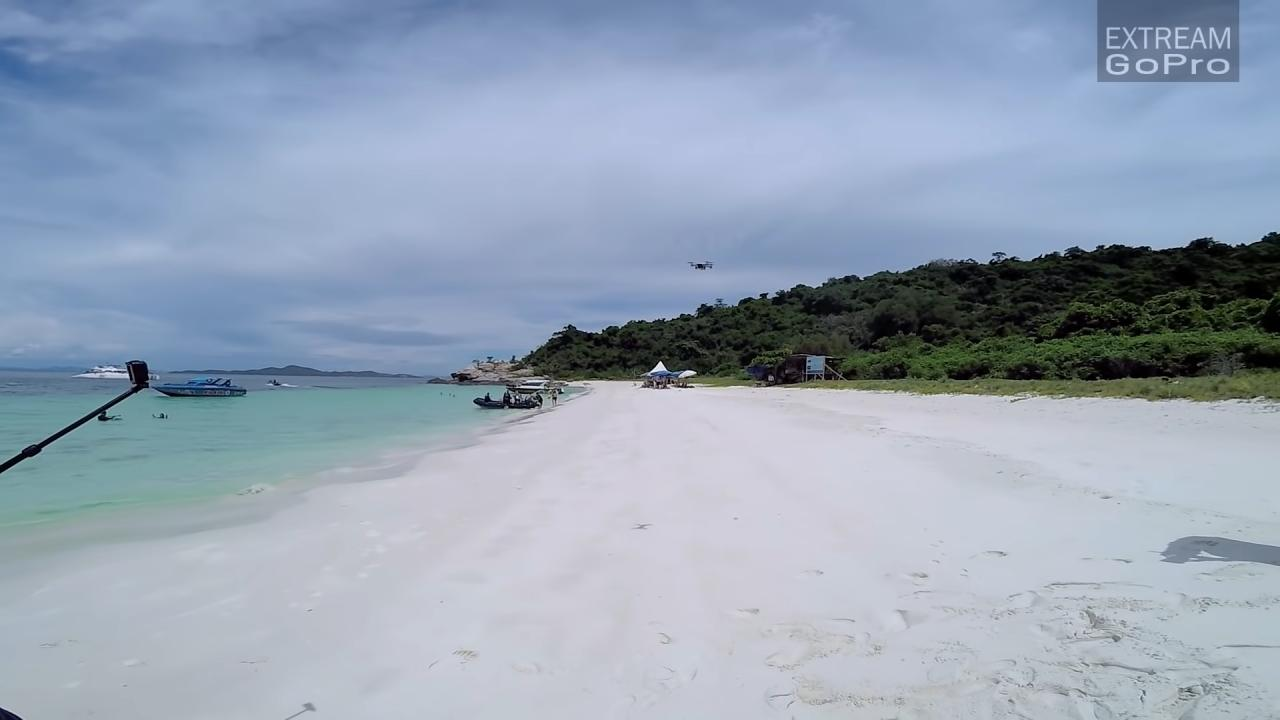Drone: (678, 250, 725, 280)
